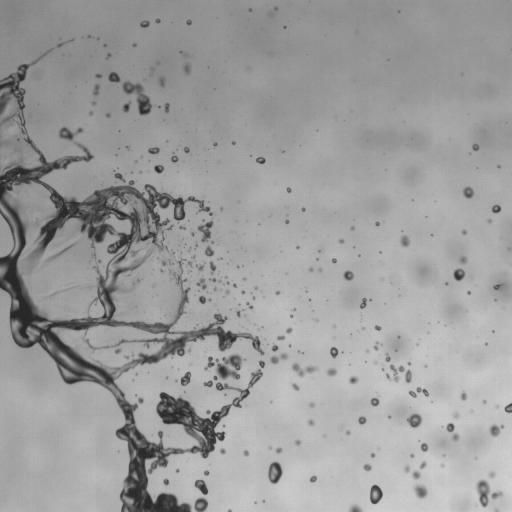droplet: (475, 478, 503, 507), (267, 461, 283, 484), (368, 484, 383, 504), (406, 412, 422, 429), (412, 483, 428, 499), (194, 479, 208, 495), (489, 423, 504, 437), (196, 275, 208, 292), (179, 370, 191, 386), (452, 268, 465, 281), (359, 297, 372, 309), (462, 186, 474, 198), (399, 235, 410, 247), (343, 270, 354, 281), (372, 340, 383, 351), (127, 92, 138, 103), (93, 104, 104, 115), (218, 138, 229, 149), (151, 153, 162, 164), (148, 173, 159, 184), (60, 188, 71, 199), (183, 201, 194, 212), (157, 207, 168, 218), (196, 252, 207, 263), (319, 252, 330, 263), (188, 270, 199, 281), (229, 270, 240, 281), (185, 278, 196, 289), (187, 290, 198, 301), (173, 321, 184, 332), (207, 334, 218, 345), (227, 343, 238, 354), (213, 349, 224, 360), (249, 350, 260, 361), (287, 352, 298, 363), (325, 356, 336, 367), (279, 358, 290, 369), (239, 367, 250, 378), (315, 367, 326, 378), (338, 369, 349, 380), (114, 375, 125, 386), (237, 376, 248, 387), (169, 387, 180, 398), (104, 392, 115, 403), (456, 400, 467, 411), (363, 405, 374, 416), (195, 407, 206, 418), (115, 415, 126, 426), (134, 419, 145, 430), (172, 422, 183, 433), (146, 432, 157, 443), (161, 437, 172, 448), (117, 438, 128, 449), (282, 441, 293, 452), (119, 453, 130, 464), (114, 479, 125, 490), (147, 487, 158, 498), (359, 497, 370, 508), (108, 72, 120, 82), (198, 295, 211, 304), (348, 375, 359, 385), (370, 395, 380, 406), (182, 62, 191, 74), (122, 100, 131, 112), (170, 151, 179, 163), (330, 346, 338, 359), (490, 204, 501, 213), (154, 164, 164, 173), (158, 76, 166, 87), (326, 368, 337, 376), (504, 402, 511, 414), (458, 255, 467, 264), (290, 382, 299, 391), (358, 416, 367, 425), (176, 56, 185, 65), (8, 65, 17, 74), (153, 68, 162, 77), (113, 81, 122, 90), (142, 87, 151, 96), (129, 102, 138, 111), (175, 149, 184, 158), (45, 154, 54, 163), (134, 182, 143, 191), (185, 236, 194, 245), (242, 281, 251, 290), (226, 310, 235, 319), (221, 322, 230, 331), (223, 347, 232, 356), (264, 348, 273, 357), (250, 362, 259, 371), (208, 366, 217, 375), (290, 373, 299, 382), (224, 375, 233, 384), (74, 380, 83, 389), (407, 381, 416, 390), (126, 395, 135, 404), (306, 409, 315, 418), (213, 439, 222, 448), (416, 450, 425, 459), (166, 453, 175, 462), (272, 453, 281, 462), (410, 461, 419, 470), (416, 476, 425, 485), (162, 485, 171, 494), (186, 496, 195, 505), (452, 410, 460, 420), (420, 442, 428, 452), (148, 147, 159, 154), (460, 390, 467, 401), (183, 146, 191, 155), (256, 156, 265, 164), (341, 503, 350, 511), (139, 20, 149, 27), (0, 288, 6, 299), (368, 505, 379, 511), (307, 418, 315, 426), (363, 463, 371, 471), (487, 470, 495, 478), (384, 353, 391, 362), (419, 460, 426, 469), (0, 145, 7, 154), (472, 143, 479, 151), (317, 245, 324, 253), (285, 326, 292, 334), (309, 475, 317, 482), (0, 70, 5, 81), (0, 246, 5, 257), (94, 73, 103, 79), (493, 284, 502, 290), (179, 223, 186, 230), (294, 439, 301, 446), (275, 446, 282, 453), (139, 14, 146, 21), (148, 20, 155, 27), (105, 45, 112, 52), (101, 47, 108, 54), (176, 65, 183, 72), (189, 65, 196, 72), (101, 72, 108, 79), (119, 75, 126, 82), (91, 77, 98, 84), (129, 77, 136, 84), (18, 80, 25, 87), (87, 93, 94, 100), (94, 94, 101, 101), (22, 97, 29, 104), (148, 97, 155, 104), (149, 106, 156, 113), (141, 113, 148, 120), (68, 125, 75, 132), (72, 134, 79, 141), (61, 137, 68, 144), (77, 149, 84, 156), (68, 161, 75, 168), (50, 168, 57, 175), (40, 174, 47, 181), (123, 174, 130, 181), (115, 179, 122, 186), (57, 188, 64, 195), (76, 195, 83, 202), (167, 202, 174, 209), (200, 210, 207, 217), (204, 214, 211, 221), (169, 217, 176, 224), (182, 229, 189, 236), (196, 230, 203, 237), (394, 233, 401, 240), (408, 237, 415, 244), (394, 240, 401, 247), (200, 241, 207, 248), (402, 245, 409, 252), (183, 252, 190, 259), (209, 254, 216, 261), (204, 255, 211, 262), (454, 262, 461, 269), (460, 263, 467, 270), (203, 264, 210, 271), (205, 280, 212, 287), (233, 287, 240, 294), (199, 289, 206, 296), (244, 293, 251, 300), (3, 310, 10, 317), (285, 320, 292, 327), (230, 327, 237, 334), (278, 328, 285, 335), (250, 329, 257, 336), (275, 339, 282, 346), (33, 342, 40, 349), (273, 349, 280, 356), (262, 355, 269, 362), (157, 358, 164, 365), (49, 359, 56, 366), (299, 362, 306, 369), (135, 363, 142, 370), (350, 369, 357, 376), (303, 371, 310, 378), (398, 371, 405, 378), (216, 376, 223, 383), (90, 381, 97, 388), (63, 382, 70, 389), (185, 382, 192, 389), (233, 390, 240, 397), (181, 393, 188, 400), (224, 397, 231, 404), (189, 400, 196, 407), (229, 405, 236, 412), (132, 409, 139, 416), (404, 410, 411, 417), (219, 416, 226, 423), (419, 419, 426, 426), (213, 425, 220, 432), (483, 427, 490, 434), (192, 439, 199, 446), (172, 441, 179, 448), (414, 446, 421, 453), (194, 450, 201, 457), (184, 451, 191, 458), (366, 457, 373, 464), (155, 465, 162, 472), (418, 468, 425, 475), (121, 469, 128, 476), (405, 471, 412, 478), (473, 475, 480, 482), (488, 485, 495, 492), (425, 486, 432, 493), (409, 489, 416, 496), (195, 490, 202, 497), (472, 492, 479, 499), (203, 493, 210, 500), (423, 494, 430, 501), (176, 497, 183, 504), (105, 52, 111, 60), (307, 402, 315, 408), (276, 335, 285, 340), (478, 506, 487, 511), (219, 447, 225, 454), (163, 478, 169, 485), (461, 229, 467, 235), (345, 429, 351, 435), (243, 450, 249, 456), (370, 452, 376, 458), (330, 258, 337, 263), (308, 266, 313, 273), (317, 266, 322, 273), (374, 325, 381, 330), (186, 19, 191, 25), (105, 112, 110, 118), (125, 145, 131, 150), (286, 187, 291, 193), (486, 218, 492, 223), (374, 221, 380, 226), (350, 225, 355, 231), (338, 238, 344, 243), (186, 246, 191, 252), (203, 470, 209, 475), (189, 507, 196, 511), (203, 507, 210, 511), (155, 18, 160, 23), (88, 110, 93, 115), (253, 285, 258, 290), (240, 290, 245, 295), (275, 290, 280, 295), (494, 404, 499, 409), (268, 5, 273, 10), (273, 10, 278, 15), (154, 13, 159, 18), (143, 15, 148, 20), (142, 26, 147, 31), (61, 36, 66, 41), (98, 39, 103, 44), (67, 41, 72, 46), (54, 46, 59, 51), (181, 46, 186, 51), (46, 52, 51, 57), (30, 55, 35, 60), (42, 55, 47, 60), (186, 57, 191, 62), (23, 59, 28, 64), (150, 61, 155, 66), (25, 68, 30, 73), (96, 68, 101, 73), (117, 72, 122, 77), (111, 80, 116, 85), (140, 81, 145, 86), (154, 81, 159, 86), (163, 81, 168, 86), (89, 85, 94, 90), (97, 87, 102, 92), (118, 103, 123, 108), (89, 105, 94, 110), (160, 105, 165, 110), (168, 105, 173, 110), (103, 108, 108, 113), (122, 111, 127, 116), (163, 112, 168, 117), (79, 123, 84, 128), (56, 124, 61, 129), (54, 130, 59, 135), (29, 135, 34, 140), (150, 142, 155, 147), (35, 143, 40, 148), (478, 144, 483, 149), (467, 146, 472, 151), (89, 149, 94, 154), (470, 149, 475, 154), (147, 152, 152, 157), (88, 158, 93, 163), (80, 159, 85, 164), (256, 162, 261, 167), (66, 163, 71, 168), (133, 169, 138, 174), (161, 169, 166, 174), (152, 170, 157, 175), (148, 180, 153, 185), (463, 182, 468, 187), (96, 185, 101, 190), (156, 187, 161, 192), (472, 188, 477, 193), (188, 191, 193, 196), (471, 194, 476, 199), (181, 195, 186, 200), (461, 195, 466, 200), (465, 197, 470, 202), (193, 201, 198, 206), (203, 201, 208, 206), (489, 201, 494, 206), (499, 203, 504, 208), (2, 209, 7, 214), (497, 210, 502, 215), (183, 214, 188, 219), (158, 217, 163, 222), (178, 219, 183, 224), (370, 219, 375, 224), (349, 220, 354, 225), (3, 222, 8, 227), (165, 222, 170, 227), (354, 225, 359, 230), (192, 226, 197, 231), (208, 226, 213, 231), (465, 227, 470, 232), (351, 229, 356, 234), (456, 229, 461, 234), (402, 230, 407, 235), (209, 232, 214, 237), (338, 233, 343, 238), (462, 234, 467, 239), (162, 240, 167, 245), (339, 242, 344, 247), (210, 244, 215, 249), (181, 247, 186, 252), (190, 249, 195, 254), (462, 251, 467, 256), (314, 252, 319, 257), (455, 254, 460, 259), (186, 256, 191, 261), (466, 257, 471, 262), (212, 260, 217, 265), (304, 263, 309, 268), (312, 265, 317, 270), (192, 266, 197, 271), (347, 266, 352, 271), (303, 267, 308, 272), (339, 270, 344, 275), (244, 272, 249, 277), (180, 274, 185, 279), (339, 274, 344, 279), (352, 274, 357, 279), (449, 274, 454, 279), (221, 277, 226, 282), (460, 277, 465, 282), (344, 279, 349, 284), (491, 280, 496, 285), (213, 281, 218, 286), (227, 283, 232, 288), (257, 284, 262, 289), (274, 285, 279, 290), (299, 289, 304, 294), (219, 290, 224, 295), (252, 290, 257, 295), (186, 291, 191, 296), (203, 293, 208, 298), (225, 294, 230, 299), (248, 299, 253, 304), (365, 300, 370, 305), (183, 301, 188, 306), (236, 305, 241, 310), (245, 307, 250, 312), (311, 312, 316, 317), (179, 314, 184, 319), (210, 317, 215, 322), (240, 327, 245, 332), (290, 329, 295, 334), (283, 332, 288, 337), (235, 336, 240, 341), (195, 337, 200, 342), (369, 341, 374, 346), (12, 342, 17, 347), (259, 344, 264, 349), (16, 345, 21, 350), (336, 346, 341, 351), (369, 347, 374, 352), (41, 349, 46, 354), (253, 349, 258, 354), (183, 351, 188, 356), (206, 351, 211, 356), (336, 352, 341, 357), (388, 352, 393, 357), (240, 353, 245, 358), (380, 354, 385, 359), (277, 358, 282, 363), (203, 359, 208, 364), (143, 361, 148, 366), (385, 361, 390, 366), (376, 363, 381, 368), (393, 363, 398, 368), (403, 364, 408, 369), (260, 367, 265, 372), (127, 368, 132, 373), (236, 369, 241, 374), (312, 370, 317, 375), (380, 370, 385, 375), (388, 370, 393, 375), (121, 371, 126, 376), (179, 371, 184, 376), (56, 374, 61, 379), (331, 374, 336, 379), (133, 375, 138, 380), (410, 375, 415, 380), (344, 377, 349, 382), (113, 378, 118, 383), (59, 379, 64, 384), (390, 379, 395, 384), (252, 382, 257, 387), (352, 382, 357, 387), (210, 384, 215, 389), (120, 386, 125, 391), (248, 387, 253, 392), (289, 387, 294, 392), (221, 388, 226, 393), (418, 391, 423, 396), (456, 391, 461, 396), (137, 392, 142, 397), (371, 392, 376, 397), (465, 392, 470, 397), (173, 394, 178, 399), (156, 396, 161, 401), (377, 396, 382, 401), (456, 396, 461, 401), (310, 397, 315, 402), (305, 398, 310, 403), (313, 399, 318, 404), (477, 399, 482, 404), (303, 401, 308, 406), (366, 401, 371, 406), (137, 402, 142, 407), (314, 402, 319, 407), (151, 405, 156, 410), (372, 405, 377, 410), (499, 405, 504, 410), (215, 406, 220, 411), (457, 409, 462, 414), (417, 410, 422, 415), (360, 411, 365, 416), (206, 413, 211, 418), (307, 414, 312, 419), (353, 416, 358, 421), (312, 417, 317, 422), (365, 417, 370, 422), (451, 419, 456, 424), (404, 421, 409, 426), (495, 421, 500, 426), (362, 422, 367, 427), (304, 423, 309, 428), (359, 423, 364, 428), (309, 425, 314, 430), (344, 425, 349, 430), (415, 425, 420, 430), (452, 427, 457, 432), (499, 428, 504, 433), (349, 431, 354, 436), (447, 431, 452, 436), (111, 433, 116, 438), (344, 434, 349, 439), (297, 435, 302, 440), (290, 437, 295, 442), (450, 439, 455, 444), (300, 440, 305, 445), (416, 441, 421, 446), (426, 442, 431, 447), (162, 443, 167, 448), (187, 443, 192, 448), (272, 444, 277, 449), (293, 444, 298, 449), (296, 444, 301, 449), (244, 445, 249, 450), (224, 447, 229, 452), (426, 447, 431, 452), (247, 448, 252, 453), (270, 448, 275, 453), (281, 448, 286, 453), (371, 448, 376, 453), (176, 452, 181, 457), (374, 453, 379, 458), (201, 457, 206, 462), (439, 457, 444, 462), (416, 460, 421, 465), (264, 464, 269, 469), (203, 465, 208, 470), (280, 465, 285, 470), (399, 465, 404, 470), (487, 466, 492, 471), (263, 467, 268, 472), (360, 468, 365, 473), (367, 469, 372, 474), (494, 469, 499, 474), (306, 473, 311, 478), (278, 476, 283, 481), (265, 479, 270, 484), (313, 480, 318, 485), (205, 483, 210, 488), (366, 485, 371, 490), (380, 487, 385, 492), (116, 488, 121, 493), (496, 495, 501, 500), (365, 497, 370, 502), (256, 498, 261, 503), (378, 498, 383, 503), (117, 501, 122, 506), (369, 502, 374, 507), (219, 206, 223, 212), (301, 206, 305, 212), (217, 256, 223, 260), (290, 307, 296, 311), (313, 318, 319, 322), (407, 359, 411, 365), (439, 463, 445, 467), (0, 203, 3, 210), (0, 287, 3, 294), (132, 43, 137, 47), (231, 141, 236, 145), (213, 142, 217, 147), (496, 164, 501, 168), (216, 240, 220, 245), (242, 277, 247, 281), (232, 283, 237, 287), (467, 290, 471, 295), (365, 348, 369, 353), (188, 361, 192, 366), (482, 399, 486, 404), (410, 453, 414, 458), (175, 468, 179, 473), (248, 8, 252, 12), (156, 61, 160, 65), (224, 275, 228, 279), (380, 277, 384, 281), (289, 314, 293, 318), (332, 324, 336, 328), (361, 326, 365, 330), (373, 360, 377, 364), (268, 446, 272, 450), (376, 446, 380, 450), (165, 374, 168, 379), (174, 378, 177, 383), (322, 434, 327, 437), (494, 508, 499, 511), (103, 43, 106, 47), (280, 150, 284, 153), (134, 160, 138, 163), (507, 247, 511, 250), (357, 254, 361, 257), (316, 257, 319, 261), (236, 265, 239, 269), (237, 303, 240, 307), (243, 314, 247, 317), (416, 342, 419, 346), (423, 364, 427, 367), (135, 372, 138, 376), (469, 409, 473, 412), (387, 415, 391, 418), (116, 449, 119, 453), (474, 456, 477, 460), (262, 499, 265, 503), (0, 214, 2, 219), (397, 10, 400, 13), (283, 25, 286, 28), (96, 37, 99, 40), (115, 153, 118, 156), (140, 155, 143, 158), (139, 170, 142, 173), (411, 198, 414, 201), (430, 233, 433, 236), (445, 282, 448, 285), (262, 295, 265, 298), (308, 298, 311, 301), (494, 298, 497, 301), (397, 335, 400, 338), (484, 342, 487, 345), (288, 344, 291, 347), (204, 349, 207, 352), (177, 367, 180, 370), (269, 400, 272, 403), (430, 400, 433, 403), (222, 424, 225, 427), (442, 454, 445, 457), (254, 501, 257, 504), (248, 4, 251, 7), (277, 6, 280, 9), (251, 7, 254, 10), (245, 8, 248, 11), (248, 11, 251, 14), (159, 17, 162, 20), (184, 17, 187, 20), (191, 20, 194, 23), (157, 22, 160, 25), (282, 22, 285, 25), (184, 23, 187, 26), (188, 24, 191, 27), (282, 28, 285, 31), (90, 33, 93, 36), (83, 34, 86, 37), (68, 36, 71, 39), (88, 37, 91, 40), (57, 40, 60, 43), (71, 40, 74, 43), (103, 40, 106, 43), (134, 40, 137, 43), (129, 41, 132, 44), (136, 43, 139, 46), (59, 45, 62, 48), (46, 46, 49, 49), (132, 46, 135, 49), (178, 47, 181, 50), (109, 50, 112, 53), (40, 51, 43, 54), (178, 52, 181, 55), (103, 53, 106, 56), (108, 56, 111, 59), (86, 109, 89, 112), (23, 114, 26, 117), (90, 114, 93, 117), (103, 115, 106, 118), (24, 123, 27, 126), (115, 127, 118, 130), (232, 138, 235, 141), (213, 139, 216, 142), (228, 140, 231, 143), (125, 142, 128, 145), (229, 143, 232, 146), (234, 143, 237, 146), (210, 144, 213, 147), (214, 145, 217, 148), (129, 146, 132, 149), (123, 147, 126, 150), (280, 147, 283, 150), (116, 149, 119, 152), (188, 149, 191, 152), (476, 149, 479, 152), (248, 151, 251, 154), (283, 151, 286, 154), (185, 152, 188, 155), (169, 153, 172, 156), (255, 154, 258, 157), (261, 154, 264, 157), (133, 156, 136, 159), (137, 158, 140, 161), (175, 160, 178, 163), (171, 161, 174, 164), (263, 161, 266, 164), (496, 161, 499, 164), (135, 162, 138, 165), (155, 162, 158, 165), (260, 163, 263, 166), (500, 165, 503, 168), (495, 167, 498, 170), (115, 169, 118, 172), (289, 185, 292, 188), (283, 188, 286, 191), (304, 207, 307, 210), (209, 208, 212, 211), (222, 208, 225, 211), (298, 208, 301, 211), (424, 212, 427, 215), (286, 216, 289, 219), (282, 218, 285, 221), (202, 221, 205, 224), (379, 221, 382, 224), (287, 222, 290, 225), (284, 223, 287, 226), (375, 225, 378, 228), (171, 226, 174, 229), (180, 228, 183, 231), (428, 230, 431, 233), (188, 234, 191, 237), (428, 235, 431, 238), (181, 240, 184, 243), (180, 243, 183, 246), (293, 243, 296, 246), (298, 243, 301, 246), (350, 243, 353, 246), (191, 244, 194, 247), (184, 245, 187, 248), (298, 247, 301, 250), (378, 247, 381, 250), (172, 248, 175, 251), (294, 248, 297, 251), (375, 250, 378, 253), (355, 251, 358, 254), (360, 253, 363, 256), (378, 253, 381, 256), (181, 255, 184, 258), (332, 255, 335, 258), (222, 256, 225, 259), (335, 256, 338, 259), (356, 256, 359, 259), (312, 257, 315, 260), (318, 257, 321, 260), (228, 261, 231, 264), (335, 261, 338, 264), (332, 262, 335, 265), (238, 263, 241, 266), (181, 264, 184, 267), (233, 264, 236, 267), (234, 267, 237, 270), (210, 275, 213, 278), (226, 277, 229, 280), (229, 281, 232, 284), (441, 281, 444, 284), (496, 281, 499, 284), (235, 282, 238, 285), (499, 285, 502, 288), (198, 286, 201, 289), (467, 287, 470, 290), (243, 288, 246, 291), (307, 288, 310, 291), (279, 289, 282, 292), (493, 289, 496, 292), (272, 290, 275, 293), (470, 291, 473, 294), (465, 293, 468, 296), (276, 294, 279, 297), (254, 296, 257, 299), (310, 296, 313, 299), (365, 296, 368, 299), (305, 298, 308, 301), (210, 299, 213, 302), (310, 299, 313, 302), (359, 299, 362, 302), (492, 300, 495, 303), (252, 305, 255, 308), (290, 305, 293, 308), (363, 306, 366, 309), (295, 308, 298, 311), (215, 310, 218, 313), (239, 311, 242, 314), (291, 311, 294, 314), (286, 314, 289, 317), (288, 317, 291, 320), (361, 323, 364, 326), (377, 323, 380, 326), (257, 324, 260, 327), (263, 325, 266, 328), (491, 326, 494, 329), (358, 327, 361, 330), (375, 329, 378, 332), (488, 329, 491, 332), (494, 329, 497, 332), (351, 332, 354, 335), (398, 332, 401, 335), (394, 336, 397, 339), (415, 339, 418, 342), (487, 342, 490, 345), (412, 343, 415, 346), (290, 344, 293, 347), (482, 344, 485, 347), (327, 347, 330, 350), (299, 348, 302, 351), (337, 350, 340, 353), (303, 351, 306, 354), (299, 353, 302, 356), (328, 353, 331, 356), (406, 358, 409, 361), (361, 359, 364, 362), (409, 359, 412, 362), (366, 360, 369, 363), (422, 361, 425, 364), (426, 362, 429, 365), (263, 364, 266, 367), (257, 365, 260, 368), (424, 367, 427, 370), (185, 368, 188, 371), (378, 368, 381, 371), (163, 373, 166, 376), (167, 376, 170, 379), (189, 376, 192, 379), (177, 379, 180, 382), (204, 379, 207, 382), (200, 382, 203, 385), (425, 387, 428, 390), (414, 390, 417, 393), (246, 394, 249, 397), (408, 394, 411, 397), (483, 396, 486, 399), (506, 401, 509, 404), (482, 403, 485, 406), (376, 404, 379, 407), (310, 407, 313, 410), (388, 412, 391, 415), (384, 414, 387, 417), (390, 416, 393, 419), (503, 423, 506, 426), (443, 425, 446, 428), (410, 426, 413, 429), (342, 429, 345, 432), (112, 431, 115, 434), (240, 451, 243, 454), (407, 451, 410, 454), (367, 453, 370, 456), (243, 455, 246, 458), (407, 455, 410, 458), (443, 461, 446, 464), (436, 464, 439, 467), (370, 466, 373, 469), (442, 466, 445, 469), (178, 468, 181, 471), (177, 471, 180, 474), (208, 471, 211, 474), (160, 480, 163, 483), (168, 480, 171, 483), (191, 481, 194, 484), (311, 481, 314, 484), (502, 491, 505, 494), (253, 497, 256, 500), (264, 498, 267, 501), (250, 501, 253, 504), (254, 503, 257, 506), (230, 507, 233, 510), (165, 140, 169, 142), (227, 509, 231, 511), (118, 129, 120, 132), (148, 159, 150, 162), (130, 171, 133, 173), (114, 181, 117, 183), (237, 200, 240, 202), (202, 218, 204, 221), (258, 222, 260, 225), (379, 251, 382, 253), (226, 262, 228, 265), (242, 264, 244, 267), (285, 272, 288, 274), (398, 294, 400, 297), (326, 299, 328, 302), (254, 323, 257, 325), (427, 331, 429, 334), (492, 330, 494, 333), (263, 338, 266, 340), (394, 349, 397, 351), (341, 350, 343, 353), (171, 365, 173, 368), (224, 509, 227, 511), (316, 129, 318, 131), (176, 148, 178, 150), (469, 152, 471, 154), (116, 167, 118, 169), (476, 166, 478, 168), (184, 243, 186, 245), (353, 246, 355, 248), (437, 321, 439, 323), (444, 324, 446, 326), (348, 363, 350, 365), (147, 371, 149, 373), (132, 379, 134, 381), (183, 391, 185, 393), (224, 393, 226, 395), (418, 440, 420, 442), (118, 147, 119, 149), (401, 230, 403, 231), (312, 309, 313, 311), (428, 322, 429, 324), (267, 343, 268, 345), (388, 59, 389, 60)
ligament: (122, 80, 161, 115), (208, 261, 229, 285), (291, 362, 319, 377), (441, 422, 459, 441), (408, 386, 430, 398), (404, 464, 420, 480), (91, 83, 100, 105), (56, 38, 74, 47), (267, 6, 278, 17), (348, 503, 363, 511), (179, 50, 192, 58), (222, 289, 230, 297), (164, 102, 169, 113), (149, 66, 154, 76), (190, 227, 195, 236), (285, 213, 289, 224), (194, 239, 198, 250), (143, 304, 147, 315), (250, 292, 255, 300), (257, 325, 263, 331), (296, 350, 304, 354), (381, 363, 385, 371), (87, 34, 94, 38), (296, 243, 300, 249), (304, 286, 308, 292), (206, 291, 211, 293), (177, 244, 180, 247), (350, 333, 352, 337), (229, 307, 231, 310), (364, 360, 366, 363), (188, 219, 189, 222)
